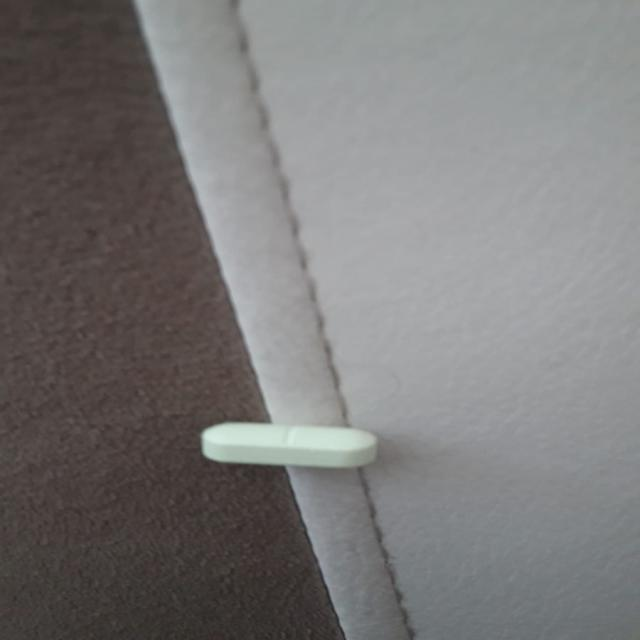pills: (183, 404, 395, 477)
